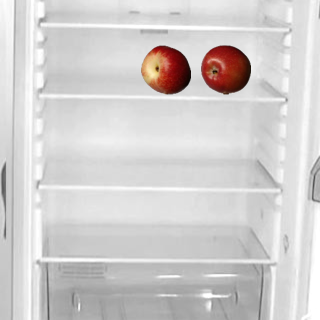Apple Braeburn: (200, 44, 250, 94)
Nectarine: (140, 44, 190, 94)
